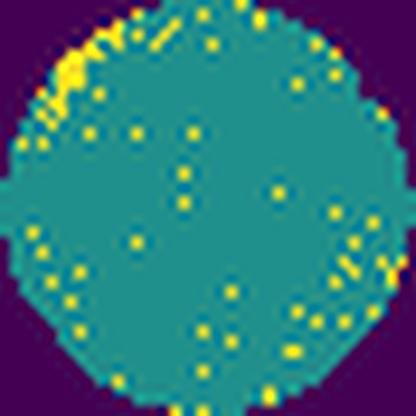Edge-Loc: (33, 15, 132, 135)
